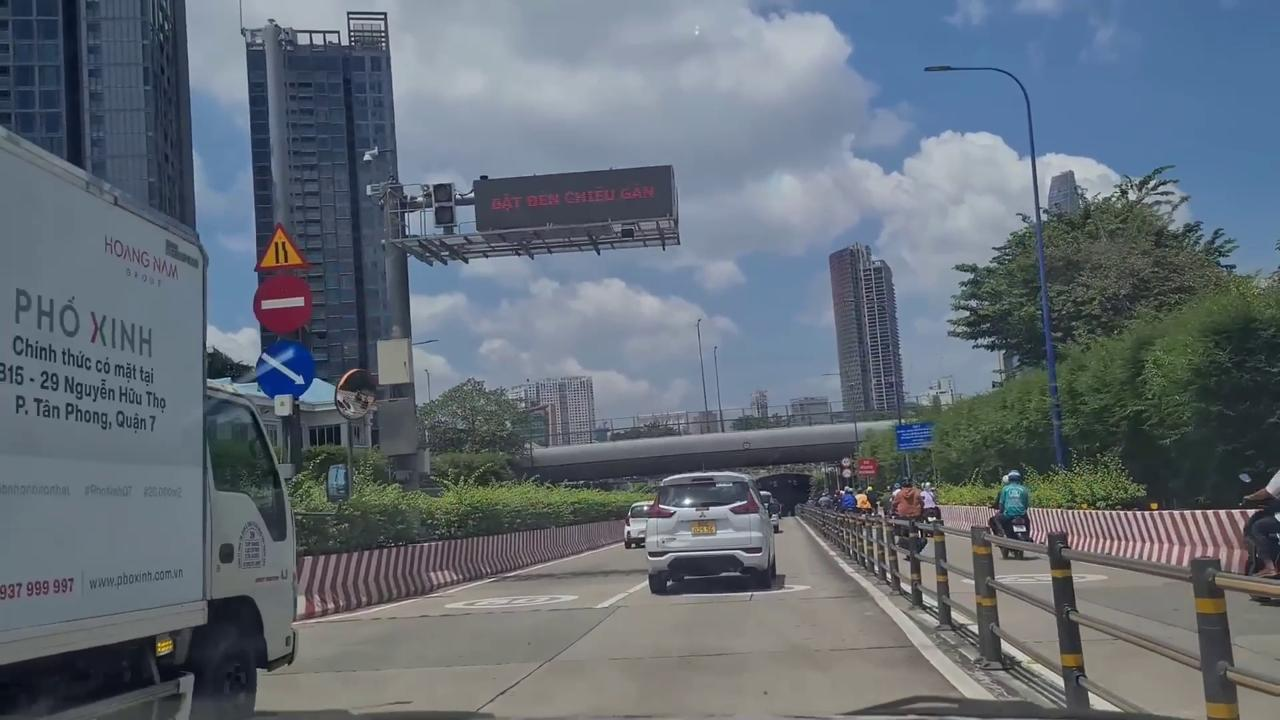Cấm đi ngược chiều: (254, 274, 315, 332)
Hướng phải đi vòng sang phải: (256, 335, 316, 398)
Đuờng hẹp: (252, 219, 311, 273)
